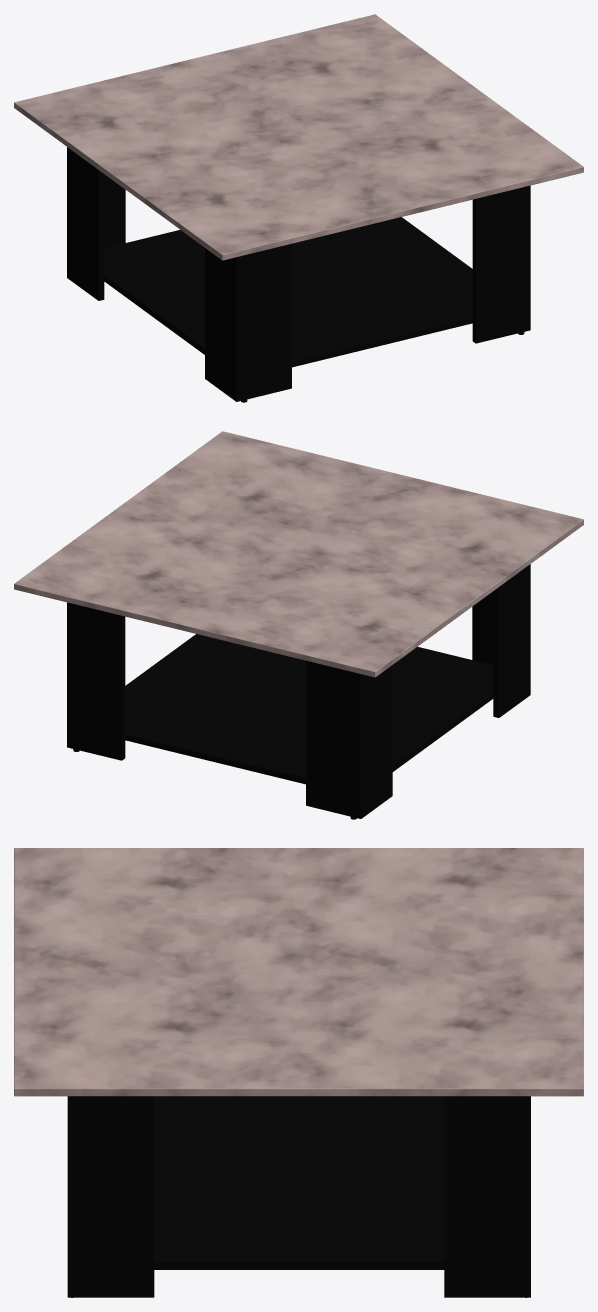
File: abo-B07S4C7X4Z.glb
3 views of the same model, one above another, from view 1: azimuth 30°, elevation 25°; view 2: azimuth 150°, elevation 25°; view 3: azimuth 270°, elevation 25° (orthographic). The views are drawn at different scales.
Size of the model in its own units: 0.67 by 0.305 by 0.67.
1 material, 1 textured.
